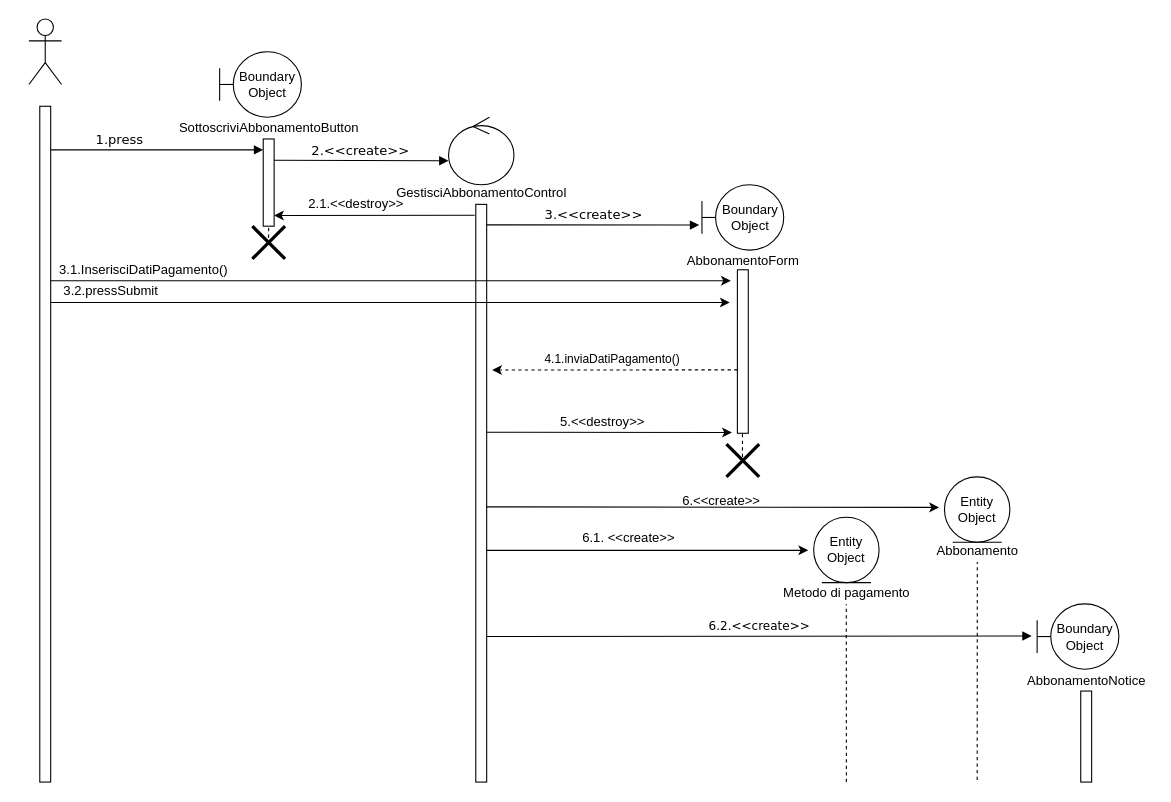
Some shapes in this 1171 by 802 pixel diagram are drawn without their labels. Here are the shapes that lost their labels. From the top down, the box of each, then its label:
(28, 18, 62, 84): Fornitore
(447, 116, 514, 185): Control Object
